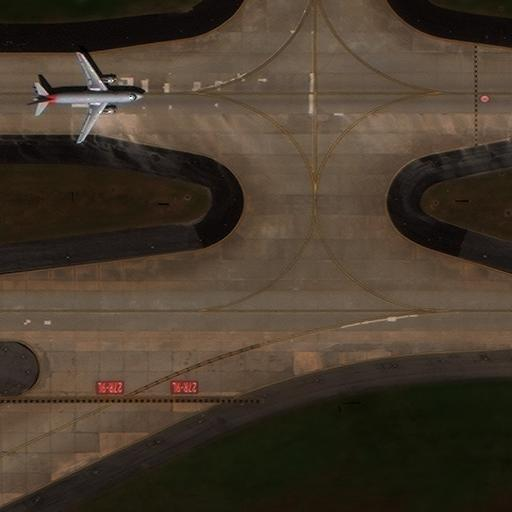Medium Civil Transport: (25, 49, 145, 144)
